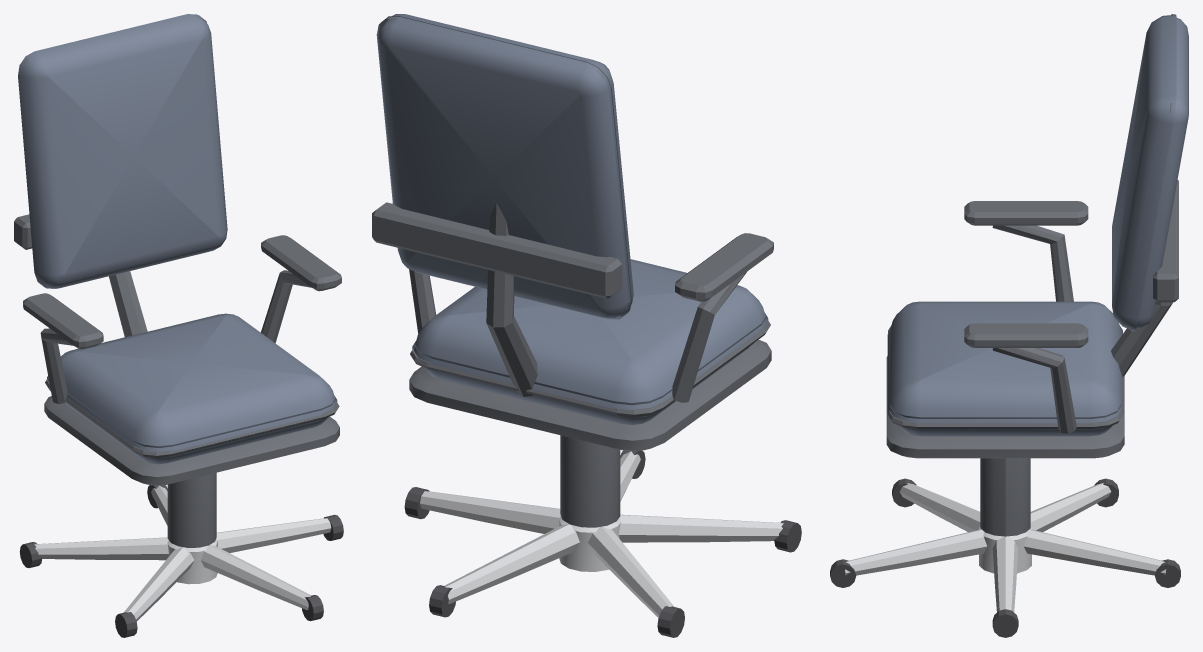
File: delegacia_cadeira.glb
3 renders of one model, left to right at view 1: azimuth 30°, elevation 25°; view 2: azimuth 150°, elevation 25°; view 3: azimuth 270°, elevation 25°, orthographic. The views are drawn at different scales.
Parts seen in each view (by area): view 1: office-chair-task; view 2: office-chair-task; view 3: office-chair-task.
Part boxes in pixels (left/top/right/bottom): office-chair-task: left=14, top=14, right=343, bottom=637; office-chair-task: left=372, top=14, right=801, bottom=637; office-chair-task: left=830, top=14, right=1188, bottom=637.
Size of the model in its own units: 0.657 by 1.08 by 0.6933.
